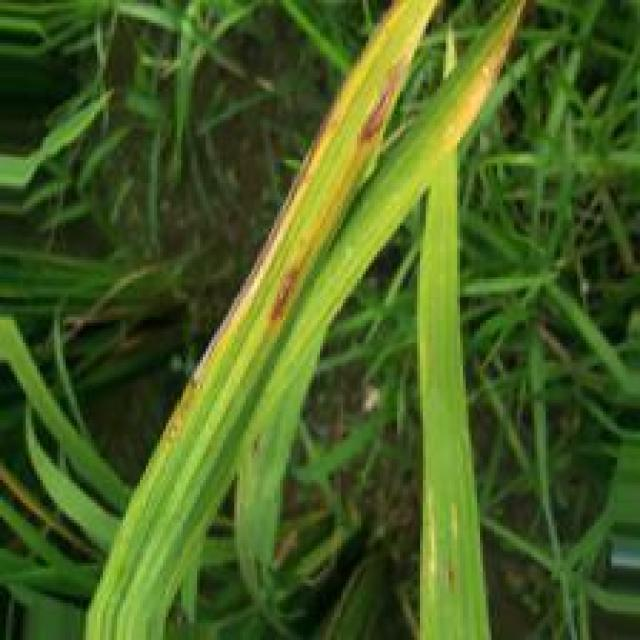Narrow_Brown_Leaf_Spot: (163, 0, 449, 447)
